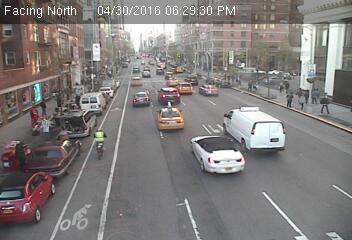neg: (100, 132, 135, 178), (290, 139, 323, 183), (192, 129, 224, 172), (260, 19, 289, 58), (175, 97, 199, 129), (201, 5, 224, 35), (308, 48, 327, 73), (112, 41, 130, 66), (30, 61, 48, 85), (151, 73, 166, 94)
pos: (21, 99, 46, 132), (32, 97, 50, 121), (315, 93, 332, 116), (296, 91, 312, 112), (285, 88, 300, 109), (54, 94, 66, 110), (246, 78, 254, 88)
